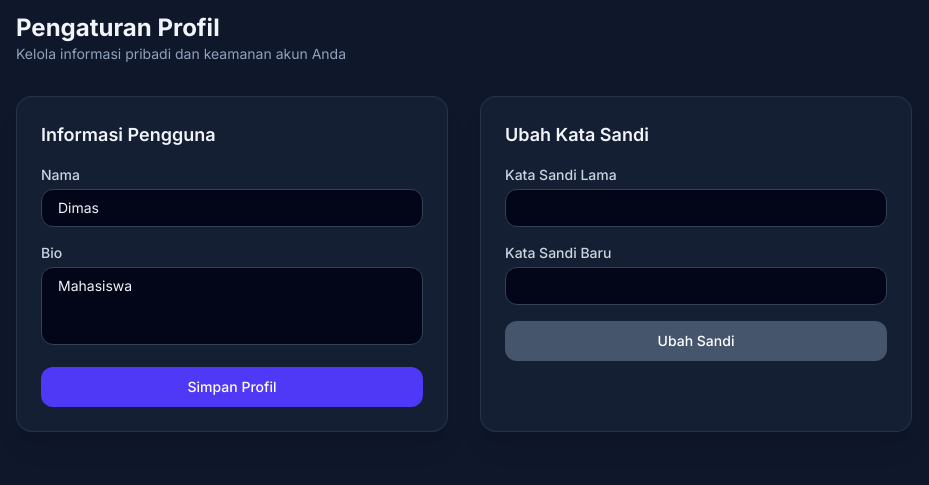
Test: ProfilePage › memakai pesan default saat error profil tanpa message
Click the button "Simpan Profil" at (232, 387), box 41,367 -> 423,407
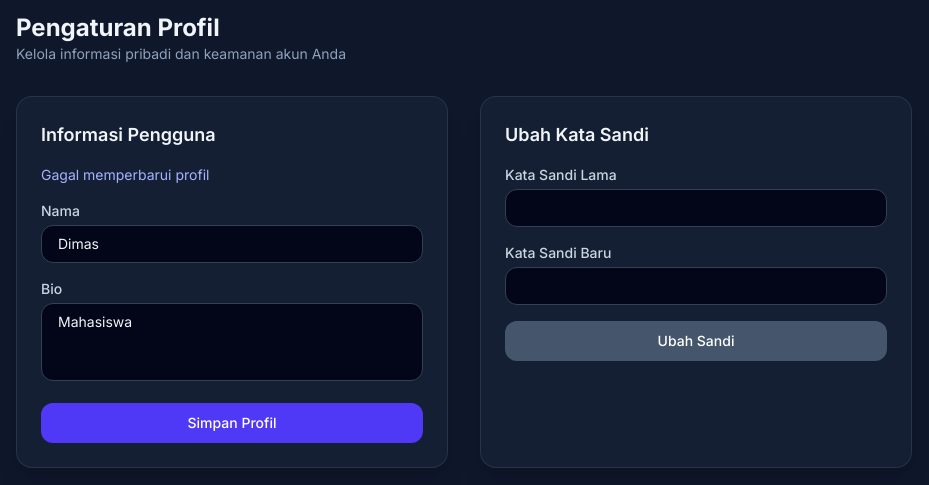
Now the text "Gagal memperbarui profil" is shown, box 41,166 -> 209,183
